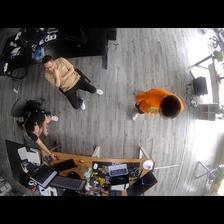normal: (131, 87, 184, 121)
